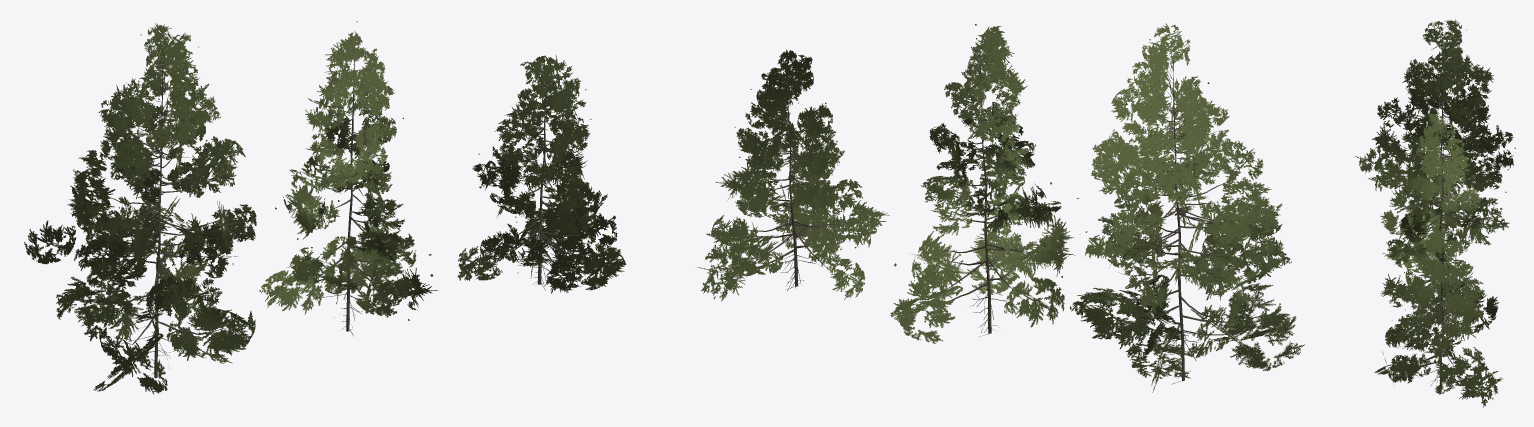
The model's file is fir_sapling_medium_nah.gltf.
3 renders of one model, left to right at view 1: azimuth 30°, elevation 25°; view 2: azimuth 150°, elevation 25°; view 3: azimuth 270°, elevation 25°, orthographic. The views are drawn at different scales.
Visible parts, largest first — view 1: baum; view 2: baum; view 3: baum.
Boxes of the visible parts, x1=… form: baum: x1=24, y1=21, x2=626, y2=394; baum: x1=696, y1=23, x2=1304, y2=392; baum: x1=1355, y1=19, x2=1515, y2=407.
Bounding box in the file's own units: 15.06 × 9.14 × 5.53.
3 materials, 3 textured.
